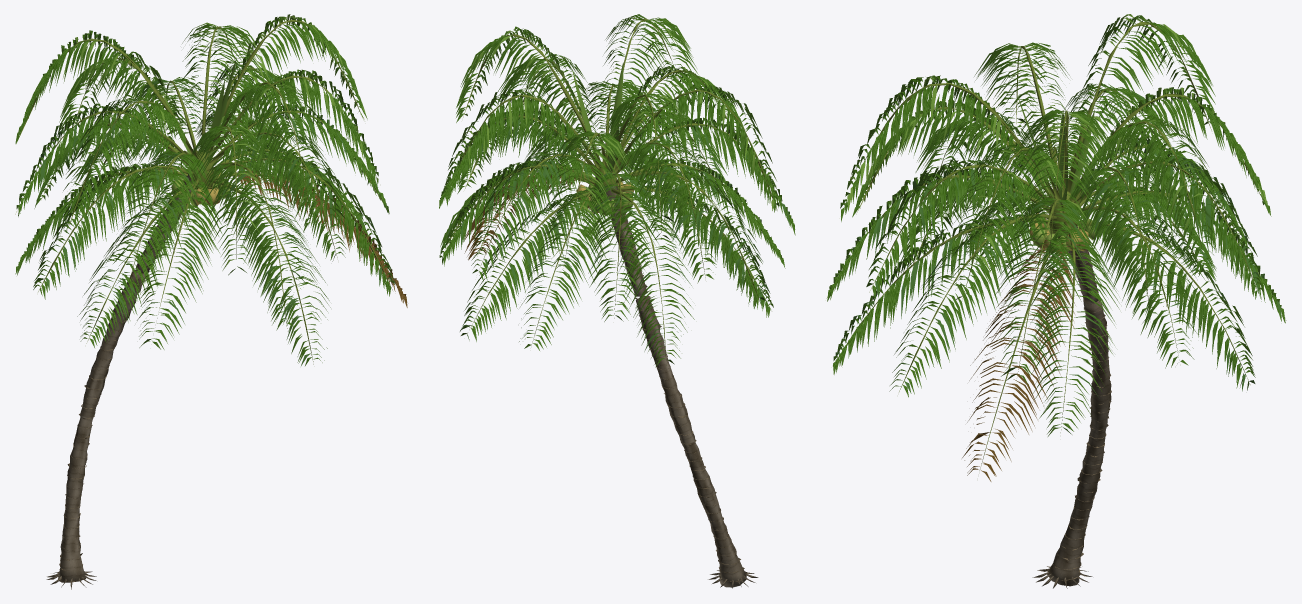
The model's file is KL_LS_Coconut_Leaning_B_LOD2.gltf.
3 views of the same model, side by side, from view 1: azimuth 30°, elevation 25°; view 2: azimuth 150°, elevation 25°; view 3: azimuth 270°, elevation 25° (orthographic). The views are drawn at different scales.
Visible parts, largest first — view 1: TF3_KL_LS_Coconut_Leaning_B_LOD2; view 2: TF3_KL_LS_Coconut_Leaning_B_LOD2; view 3: TF3_KL_LS_Coconut_Leaning_B_LOD2.
Part boxes in pixels (<box>): TF3_KL_LS_Coconut_Leaning_B_LOD2: <box>15,14,407,589</box>; TF3_KL_LS_Coconut_Leaning_B_LOD2: <box>439,14,795,588</box>; TF3_KL_LS_Coconut_Leaning_B_LOD2: <box>826,14,1286,588</box>.
Size of the model in its own units: 8.03 by 11.63 by 8.23.
9 materials, 3 textured.
